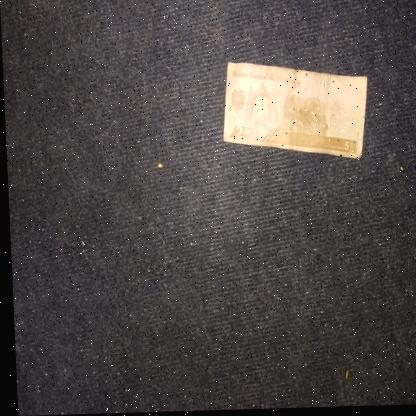five-back-vef: (218, 60, 369, 164)
